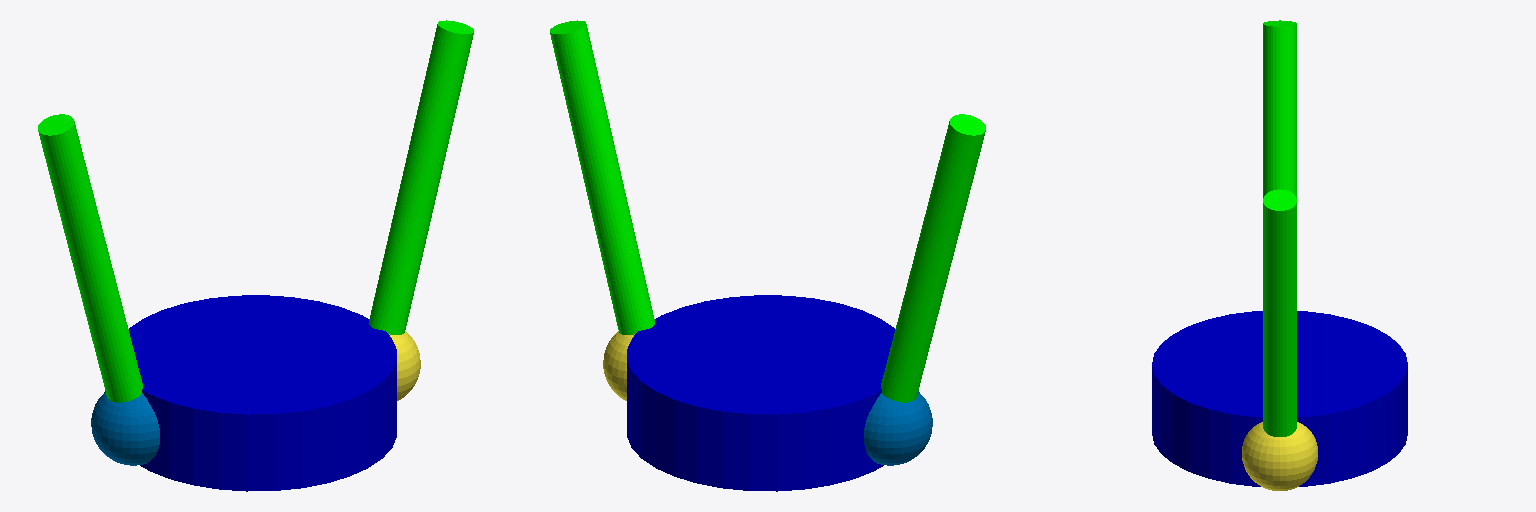
URDF robot description (gripper_2f_1j):
<?xml version='1.0' encoding='UTF-8'?>
<robot name="gripper_2f_1j">
  <link name="palm">
    <inertial>
      <origin xyz="0.0 0.0 0.0" rpy="0.0 -0.0 0.0"/>
      <mass value="1.0"/>
      <inertia ixx="1.0" ixy="0.0" ixz="0.0" iyy="1.0" iyz="0.0" izz="1.0"/>
    </inertial>
    <visual>
      <geometry>
        <cylinder radius="0.05" length="0.03"/>
      </geometry>
      <material name="blue"/>
      <origin xyz="0.0 0.0 0.0" rpy="0.0 -0.0 0.0"/>
    </visual>
    <collision>
      <geometry>
        <cylinder radius="0.05" length="0.03"/>
      </geometry>
      <origin xyz="0.0 0.0 0.0" rpy="0.0 0.0 0.0"/>
    </collision>
  </link>
  <link name="f11">
    <inertial>
      <origin xyz="0.0 0.0 0.0" rpy="0.0 -0.0 0.0"/>
      <mass value="1.0"/>
      <inertia ixx="1.0" ixy="0.0" ixz="0.0" iyy="1.0" iyz="0.0" izz="1.0"/>
    </inertial>
    <visual>
      <geometry>
        <cylinder radius="0.006658370860711039" length="0.12759999293364221"/>
      </geometry>
      <material name="green"/>
      <origin xyz="0.0 0.0 0.06379999646682111" rpy="0.0 -0.0 0.0"/>
    </visual>
    <collision>
      <geometry>
        <cylinder radius="0.006658370860711039" length="0.12759999293364221"/>
      </geometry>
      <origin xyz="0.0 0.0 0.05" rpy="0.0 0.0 0.0"/>
    </collision>
  </link>
  <link name="f21">
    <inertial>
      <origin xyz="0.0 0.0 0.0" rpy="0.0 -0.0 0.0"/>
      <mass value="1.0"/>
      <inertia ixx="1.0" ixy="0.0" ixz="0.0" iyy="1.0" iyz="0.0" izz="1.0"/>
    </inertial>
    <visual>
      <geometry>
        <cylinder radius="0.006658370860711039" length="0.12759999293364221"/>
      </geometry>
      <material name="green"/>
      <origin xyz="0.0 0.0 0.06379999646682111" rpy="0.0 -0.0 0.0"/>
    </visual>
    <collision>
      <geometry>
        <cylinder radius="0.006658370860711039" length="0.12759999293364221"/>
      </geometry>
      <origin xyz="0.0 0.0 0.05" rpy="0.0 0.0 0.0"/>
    </collision>
  </link>
  <link name="f11_base">
    <inertial>
      <origin xyz="0.0 0.0 0.0" rpy="0.0 -0.0 0.0"/>
      <mass value="1.0"/>
      <inertia ixx="1.0" ixy="0.0" ixz="0.0" iyy="1.0" iyz="0.0" izz="1.0"/>
    </inertial>
    <visual>
      <geometry>
        <sphere radius="0.015"/>
      </geometry>
      <origin xyz="0.0 0.0 0.0" rpy="0.0 -0.0 0.0"/>
    </visual>
  </link>
  <link name="f21_base">
    <inertial>
      <origin xyz="0.0 0.0 0.0" rpy="0.0 -0.0 0.0"/>
      <mass value="1.0"/>
      <inertia ixx="1.0" ixy="0.0" ixz="0.0" iyy="1.0" iyz="0.0" izz="1.0"/>
    </inertial>
    <visual>
      <geometry>
        <sphere radius="0.015"/>
      </geometry>
      <origin xyz="0.0 0.0 0.0" rpy="0.0 -0.0 0.0"/>
    </visual>
  </link>
  <joint name="f11_joint" type="revolute">
    <dynamics damping="100.0" friction="1.0"/>
    <limit effort="30.0" velocity="2.0" lower="-0.6" upper="0.25"/>
    <parent link="f11_base"/>
    <child link="f11"/>
    <axis xyz="0. 1. 0."/>
    <origin xyz="0.0 0.0 0.0" rpy="0.0 0.25 0.0"/>
  </joint>
  <joint name="f21_joint" type="revolute">
    <dynamics damping="100.0" friction="1.0"/>
    <limit effort="30.0" velocity="2.0" lower="-0.6" upper="0.25"/>
    <parent link="f21_base"/>
    <child link="f21"/>
    <axis xyz=" 0. -1.  0."/>
    <origin xyz="0.0 0.0 0.0" rpy="0.0 -0.25 0.0"/>
  </joint>
  <joint name="f11_base_joint" type="fixed">
    <parent link="palm"/>
    <child link="f11_base"/>
    <axis xyz="1. 0. 0."/>
    <origin xyz="0.05 0.0 0.0" rpy="0.0 0.0 0.0"/>
  </joint>
  <joint name="f21_base_joint" type="fixed">
    <parent link="palm"/>
    <child link="f21_base"/>
    <axis xyz="1. 0. 0."/>
    <origin xyz="-0.05 -0.0 0.0" rpy="0.0 0.0 0.0"/>
  </joint>
  <material name="blue">
    <color rgba="0.  0.  0.8 1. "/>
  </material>
  <material name="green">
    <color rgba="0. 1. 0. 1."/>
  </material>
</robot>

--- What the picture shows (computed from the rendered views, not written in the file) ---
The picture shows the robot from 3 angles, left to right: view 1: azimuth 30°, elevation 25°; view 2: azimuth 150°, elevation 25°; view 3: azimuth 270°, elevation 25°; orthographic projection.
Model gripper_2f_1j with 5 links and 4 joints (2 revolute, 2 fixed), rooted at palm, posed every joint at zero.
Links seen in each view (by area): view 1: palm, f11, f21, f21_base, f11_base; view 2: palm, f11, f21, f21_base, f11_base; view 3: palm, f11, f21, f11_base.
Boxes of the visible links, left/top/right/bottom form: palm: left=129, top=295, right=396, bottom=491; f11: left=369, top=20, right=473, bottom=334; f21: left=38, top=114, right=142, bottom=402; f21_base: left=91, top=391, right=159, bottom=465; f11_base: left=389, top=331, right=420, bottom=400; palm: left=627, top=295, right=894, bottom=491; f11: left=550, top=20, right=654, bottom=334; f21: left=881, top=114, right=985, bottom=402; f21_base: left=864, top=391, right=932, bottom=465; f11_base: left=603, top=331, right=634, bottom=400; palm: left=1152, top=311, right=1407, bottom=486; f11: left=1263, top=189, right=1296, bottom=436; f21: left=1263, top=20, right=1296, bottom=197; f11_base: left=1242, top=422, right=1317, bottom=490.
Size in the robot's own frame: 0.176 by 0.1 by 0.1403 metres.
Geometry: primitives only (box / cylinder / sphere), no mesh files.
